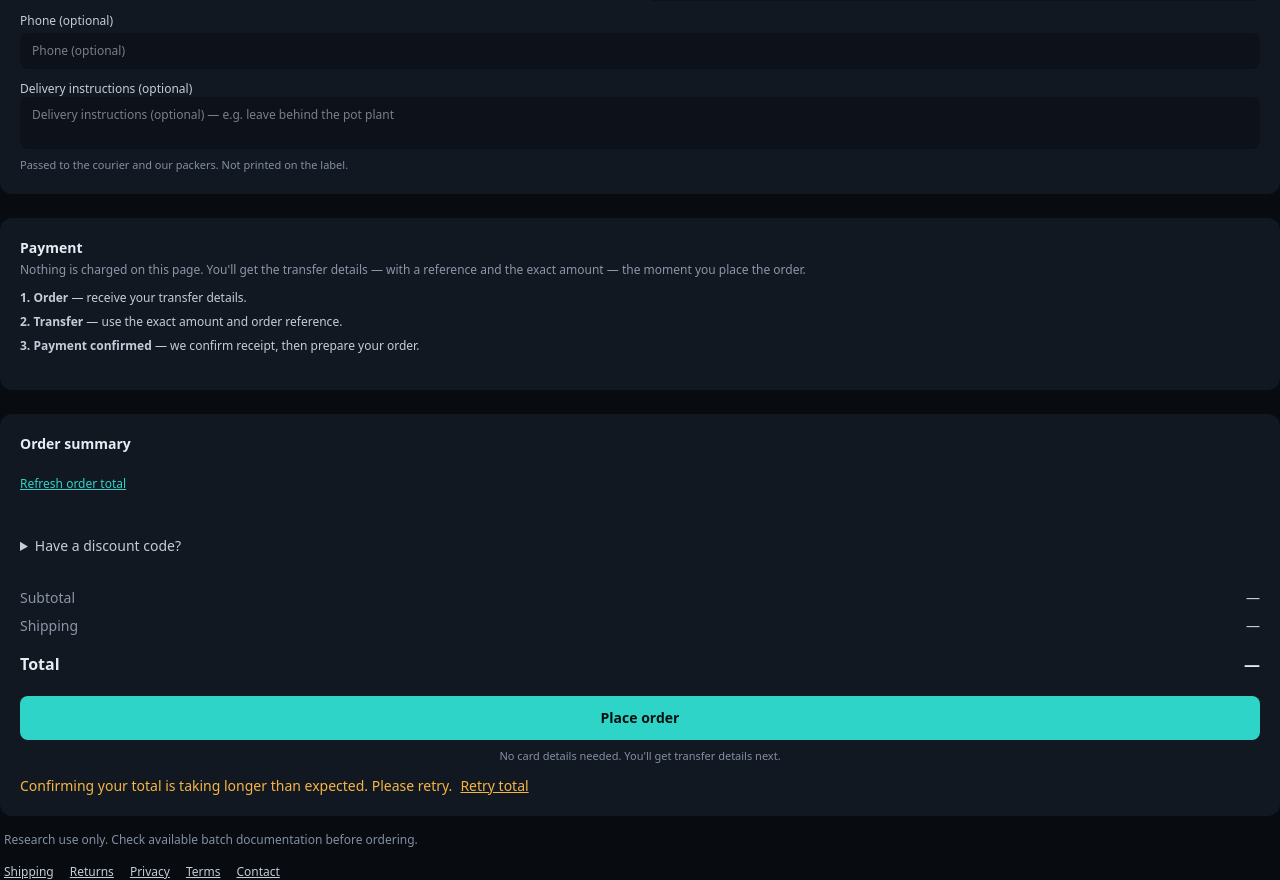
Test: times out a hanging quote and ignores its late response while allowing a fresh retry
The width and height of the screenshot is (1280, 880).
(page scrolled)
Check: the button "Place order" is disabled, box [20,696,1260,740]
Click the button "Retry total" at (495, 786), box [460,776,529,796]
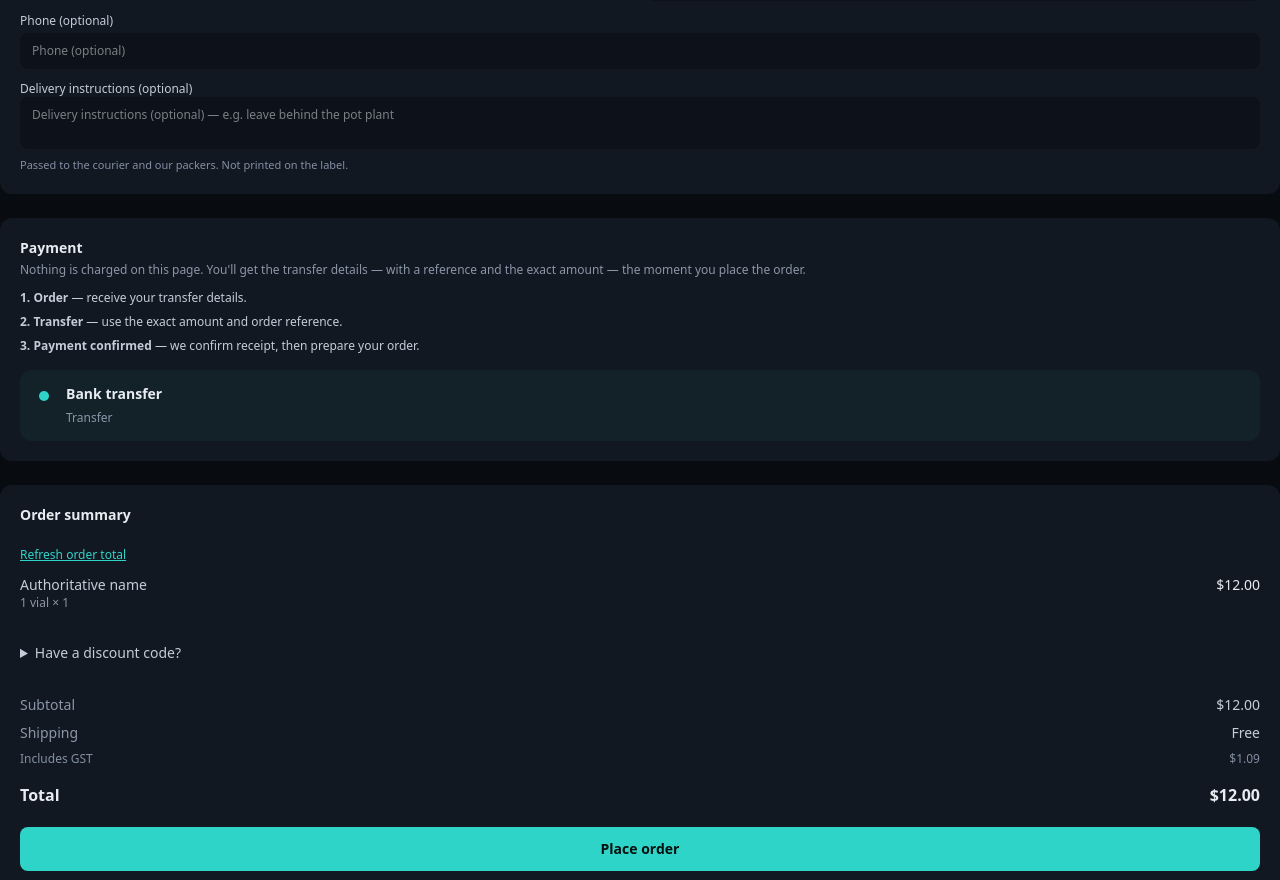
Check: the button "Place order" is enabled, box [20,827,1260,871]
